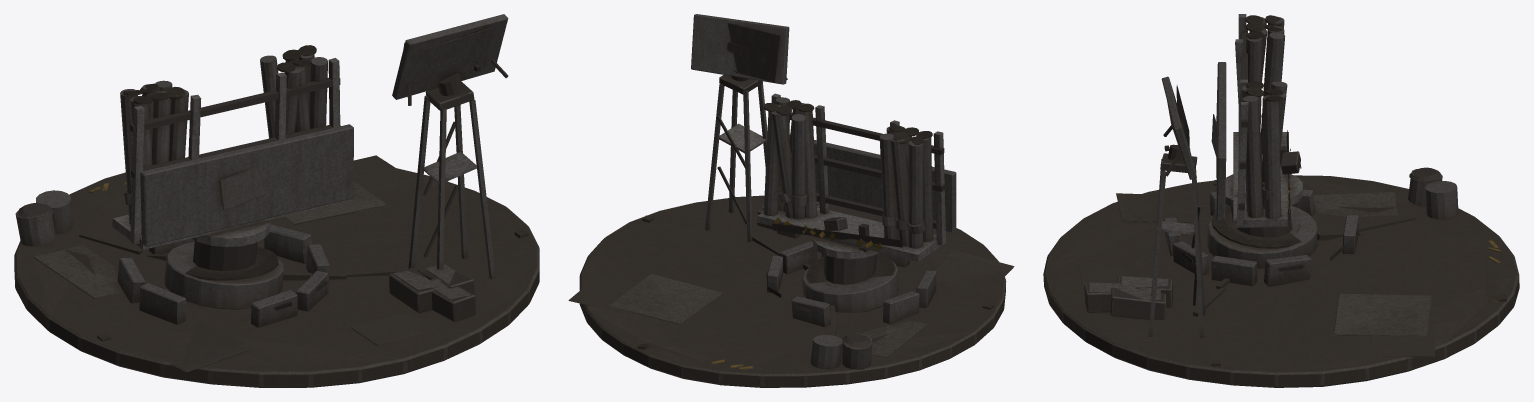
Rendered from chs_wyvern_wreck.fbx.
3 views of the same model, side by side, from view 1: azimuth 30°, elevation 25°; view 2: azimuth 150°, elevation 25°; view 3: azimuth 270°, elevation 25° (orthographic). The views are drawn at different scales.
Visible parts, largest first — view 1: base_bar, launcher_bar, radar_bar; view 2: base_bar, launcher_bar, radar_bar; view 3: base_bar, launcher_bar, radar_bar.
Boxes of the visible parts, box(x1,y1,x2,y2) form: base_bar: box(14, 64, 539, 387); launcher_bar: box(112, 45, 353, 270); radar_bar: box(392, 14, 508, 105); base_bar: box(568, 75, 1014, 387); launcher_bar: box(757, 93, 956, 284); radar_bar: box(691, 14, 789, 84); base_bar: box(1043, 145, 1519, 387); launcher_bar: box(1211, 14, 1303, 237); radar_bar: box(1161, 76, 1196, 179).
Size of the model in its own units: 2295 by 1487 by 2297.
Materials: 2 (2 with a texture image).
